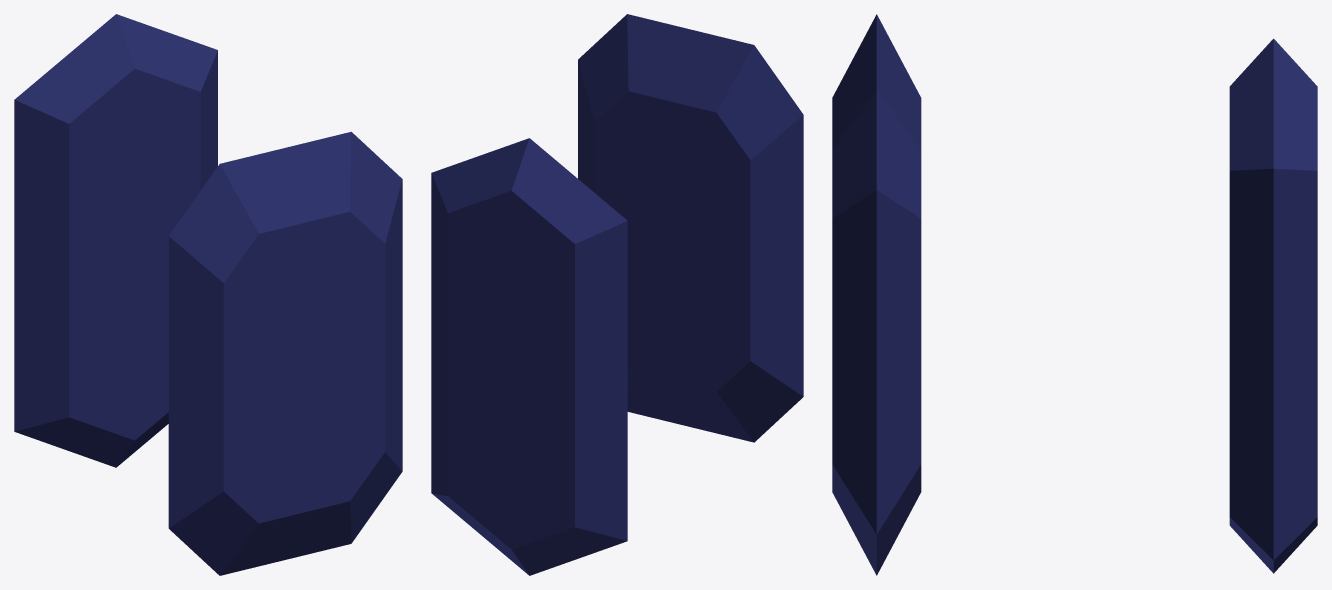
Rendered from Diamonds.FBX.
3 renders of one model, left to right at view 1: azimuth 30°, elevation 25°; view 2: azimuth 150°, elevation 25°; view 3: azimuth 270°, elevation 25°, orthographic. The views are drawn at different scales.
Parts seen in each view (by area): view 1: Diamond1, Diamond2; view 2: Diamond1, Diamond2; view 3: Diamond2, Diamond1.
Boxes of the visible parts, box(x1,y1,x2,y2) form: Diamond1: box(168, 131, 402, 575); Diamond2: box(14, 14, 217, 467); Diamond1: box(578, 14, 803, 442); Diamond2: box(431, 138, 627, 575); Diamond2: box(1229, 38, 1317, 573); Diamond1: box(832, 14, 921, 575).
Size of the model in its own units: 60.42 by 112 by 92.12.
